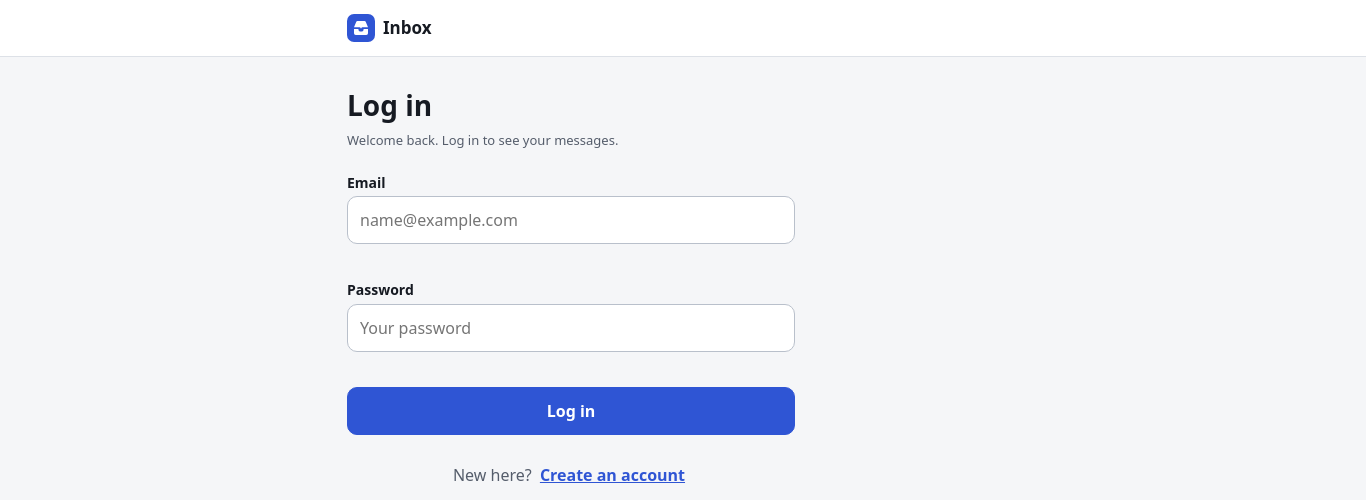
Test case: Route protection › returns to the originally requested page after logging in
Type "ada@example.com" into the field labelled "Email" at (571, 220), box x1=347 y1=196 x2=795 y2=244
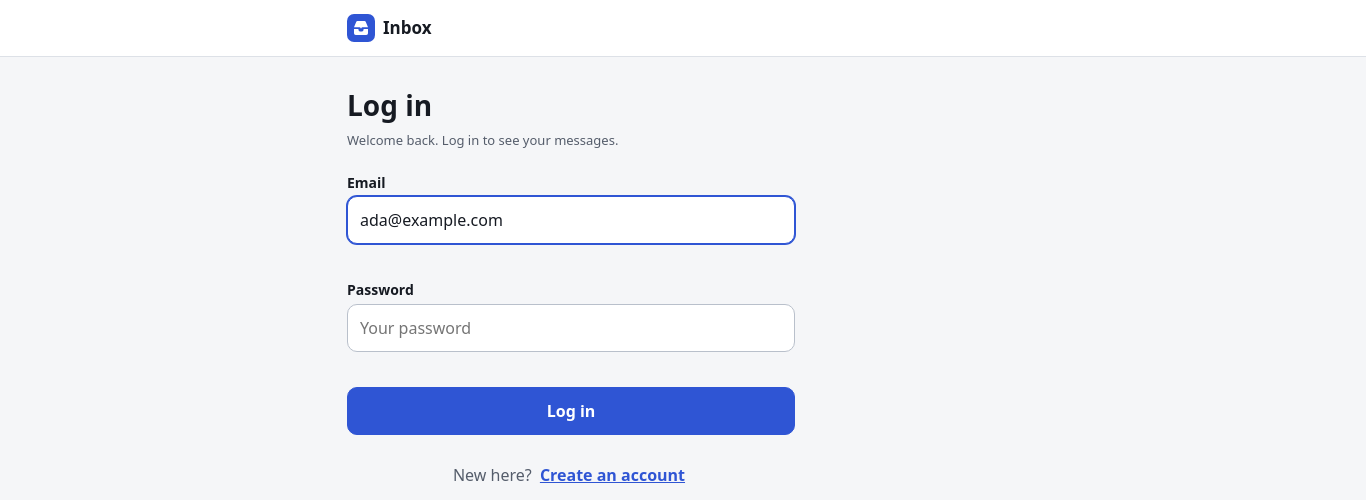
Type "correct horse" into the password field labelled "Password" at (571, 328), box x1=347 y1=304 x2=795 y2=352
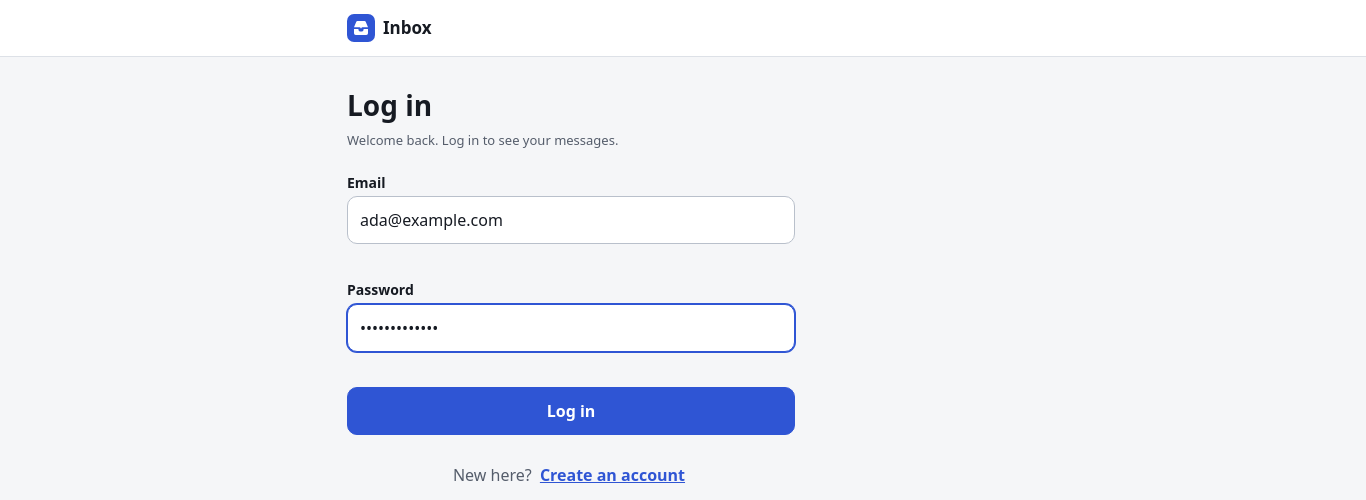
Click the button "Log in" at (571, 411), box x1=347 y1=387 x2=795 y2=435
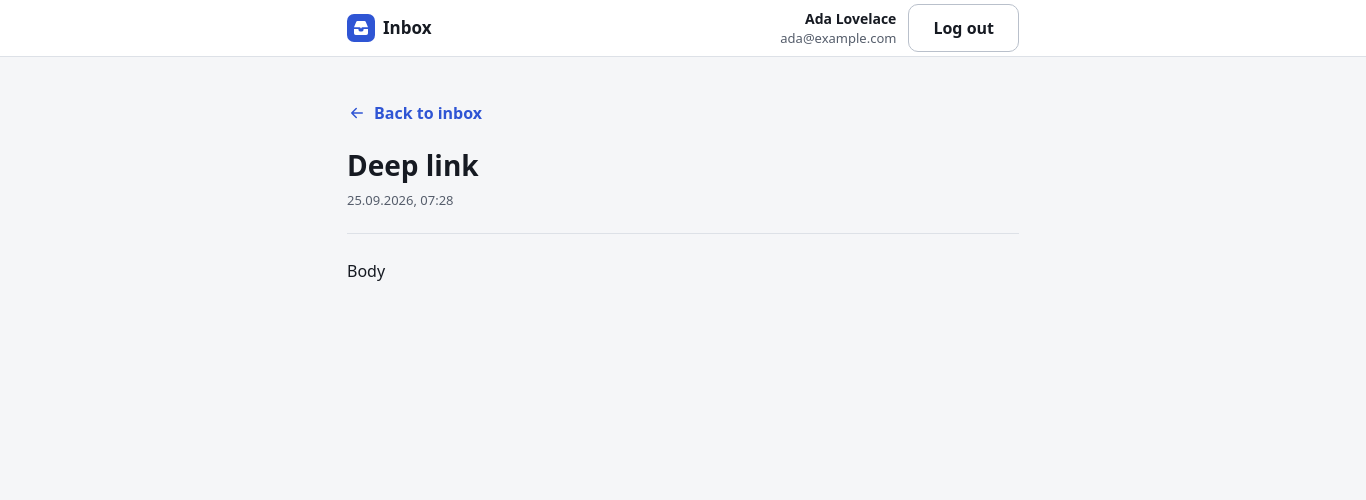
Result: the heading "Deep link" is shown at x1=347 y1=146 x2=479 y2=184
